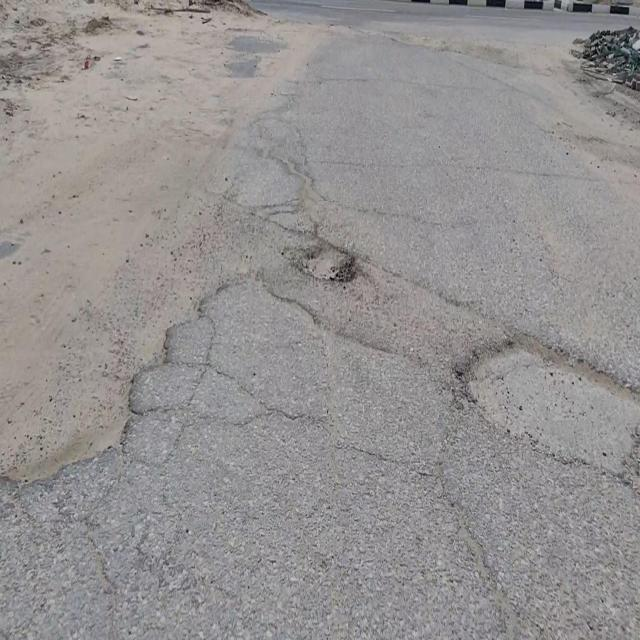Potholes: (0, 327, 170, 492), (458, 342, 639, 473), (296, 241, 357, 285)
